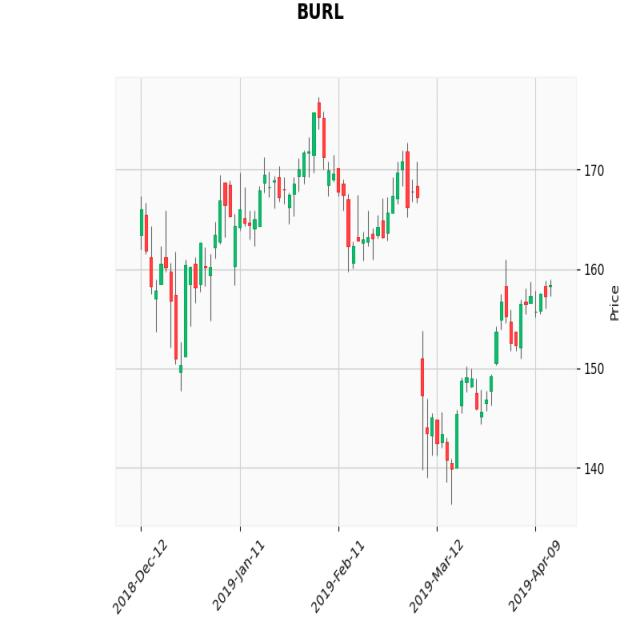Inverse-Head-Shoulders: (136, 167, 236, 395)
